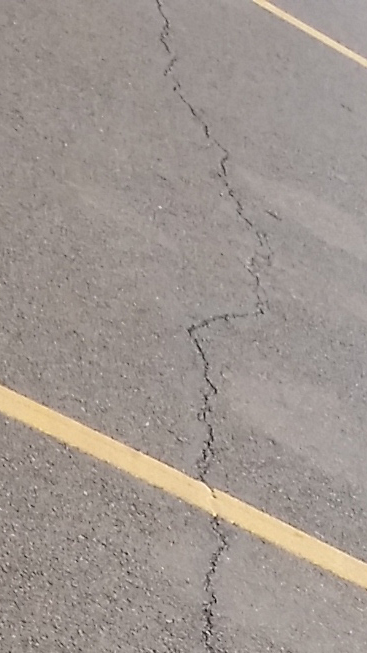A: (116, 1, 287, 644)
